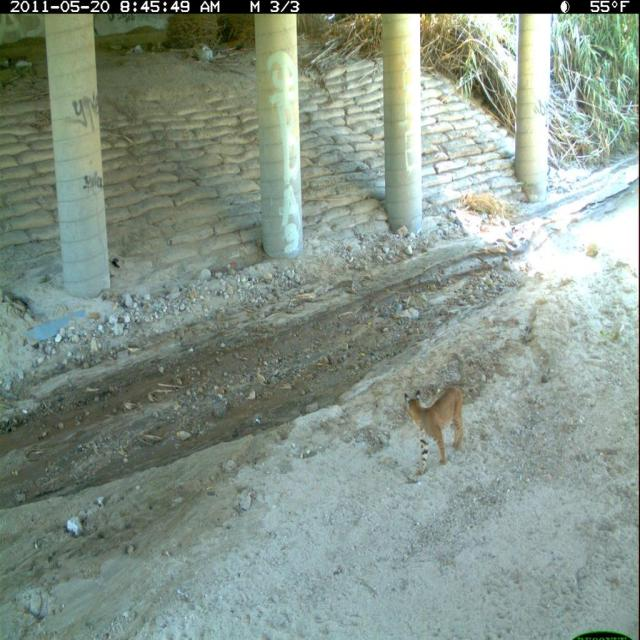bobcat: (403, 383, 467, 479)
